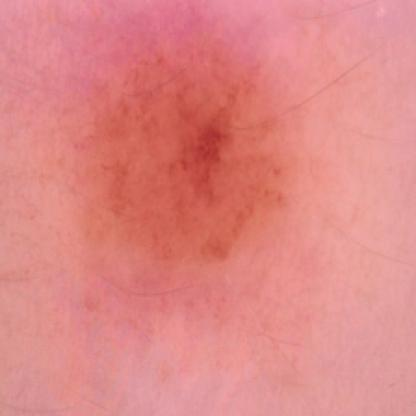benign: (98, 61, 282, 280)
